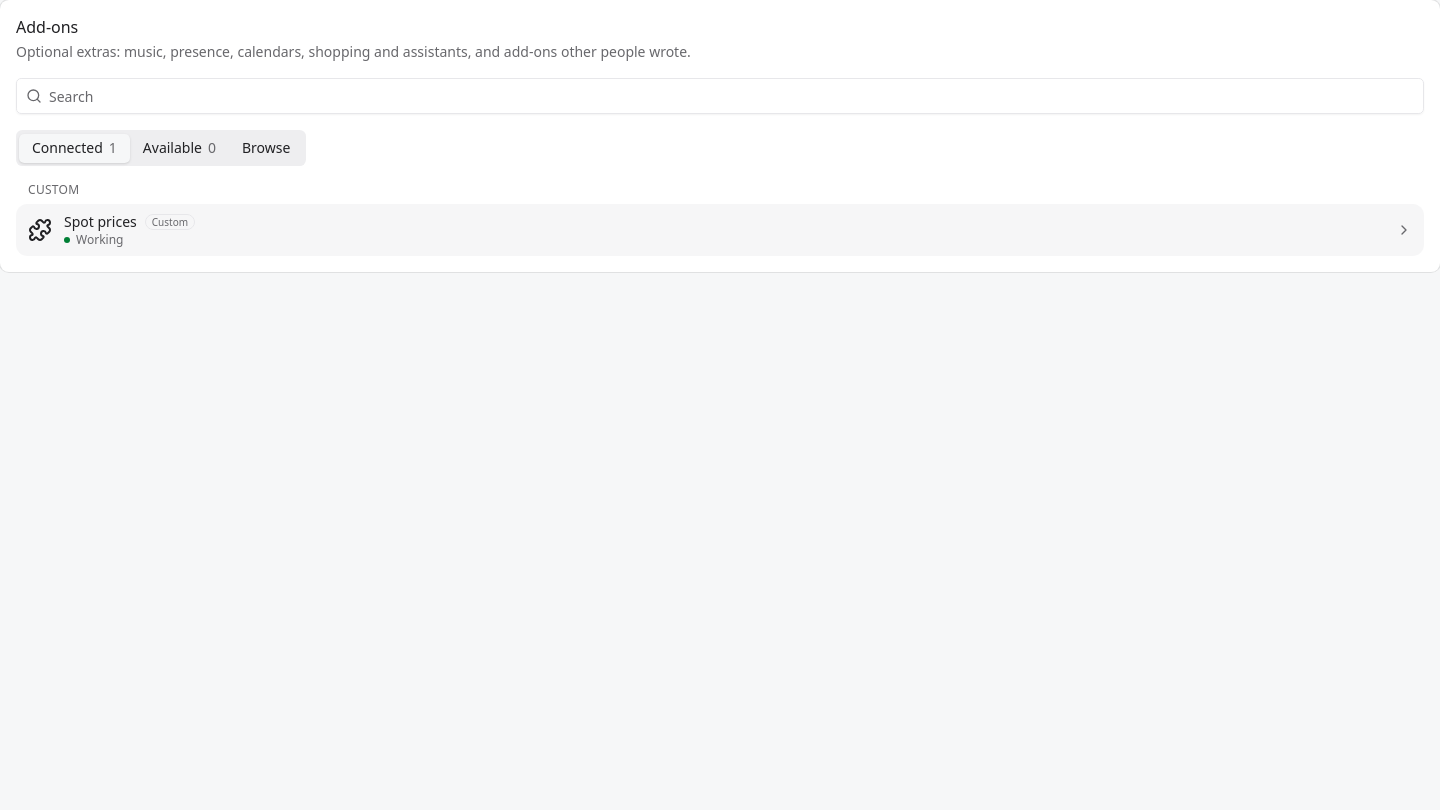
Test: the generated setup panel › says how it is doing once nothing is missing
Click the button with aria-label "Configure Spot prices" at {"x": 100, "y": 222}, box 16,204 -> 1424,256
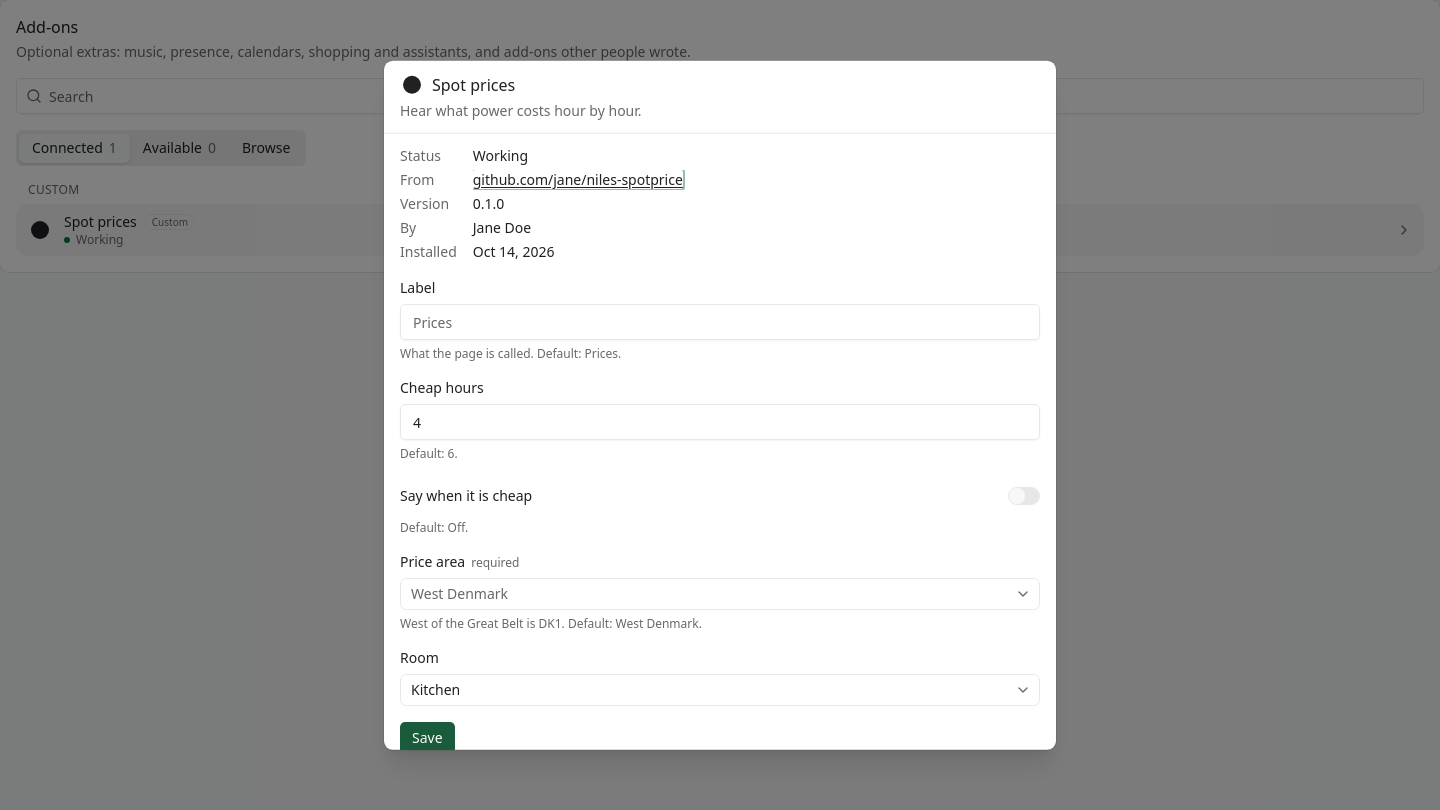
expect the text "Working" is shown: met, box 473,146 -> 528,165
